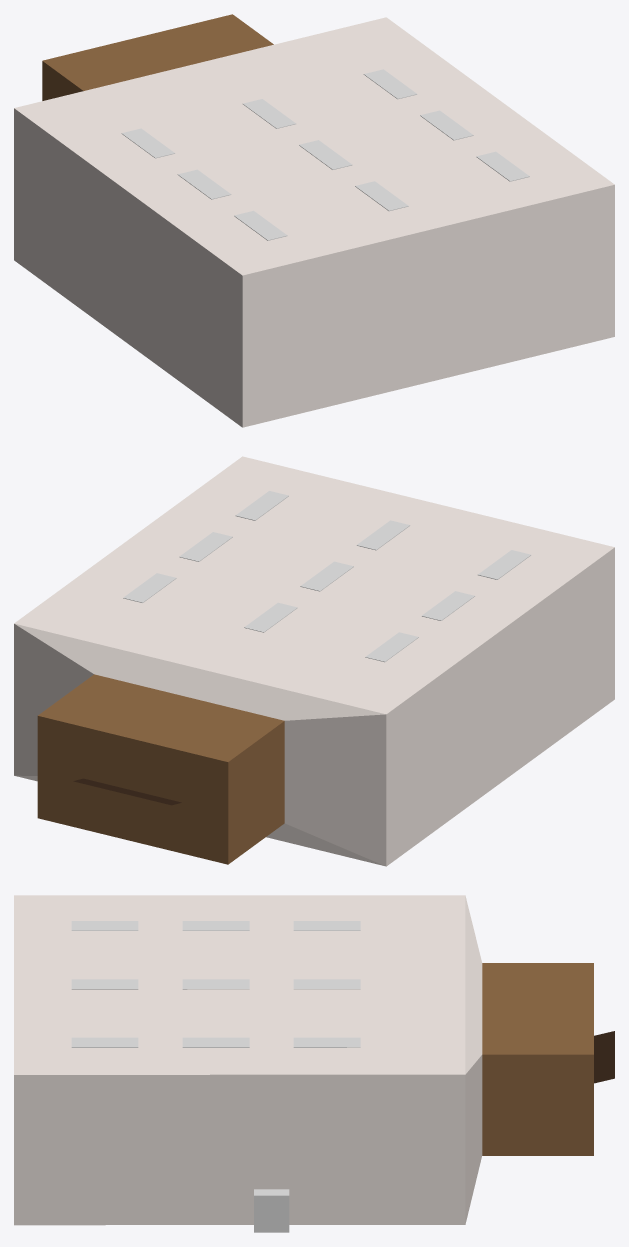
The model's file is Warehouse.fbx.
3 views of the same model, one above another, from view 1: azimuth 30°, elevation 25°; view 2: azimuth 150°, elevation 25°; view 3: azimuth 270°, elevation 25° (orthographic).
Visible parts, largest first — view 1: WarehouseBuilding, Light; view 2: WarehouseBuilding, Light, Floor; view 3: WarehouseBuilding, Light, Door, Floor.
Boxes of the visible parts, x1,y1,x2,y2 form: WarehouseBuilding: (14, 14, 614, 427); Light: (121, 69, 529, 240); WarehouseBuilding: (14, 456, 614, 866); Light: (123, 491, 530, 662); Floor: (73, 778, 181, 805); WarehouseBuilding: (14, 895, 593, 1225); Light: (71, 921, 360, 1047); Door: (254, 1189, 289, 1232); Floor: (594, 1031, 614, 1083).
Bounding box in the file's own units: 3898 × 1487 × 5325.
